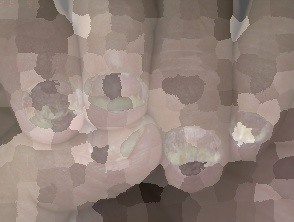Nail_psoriasis: (98, 112, 164, 181), (20, 75, 86, 137), (160, 124, 225, 179), (81, 79, 149, 117), (228, 116, 272, 146)
